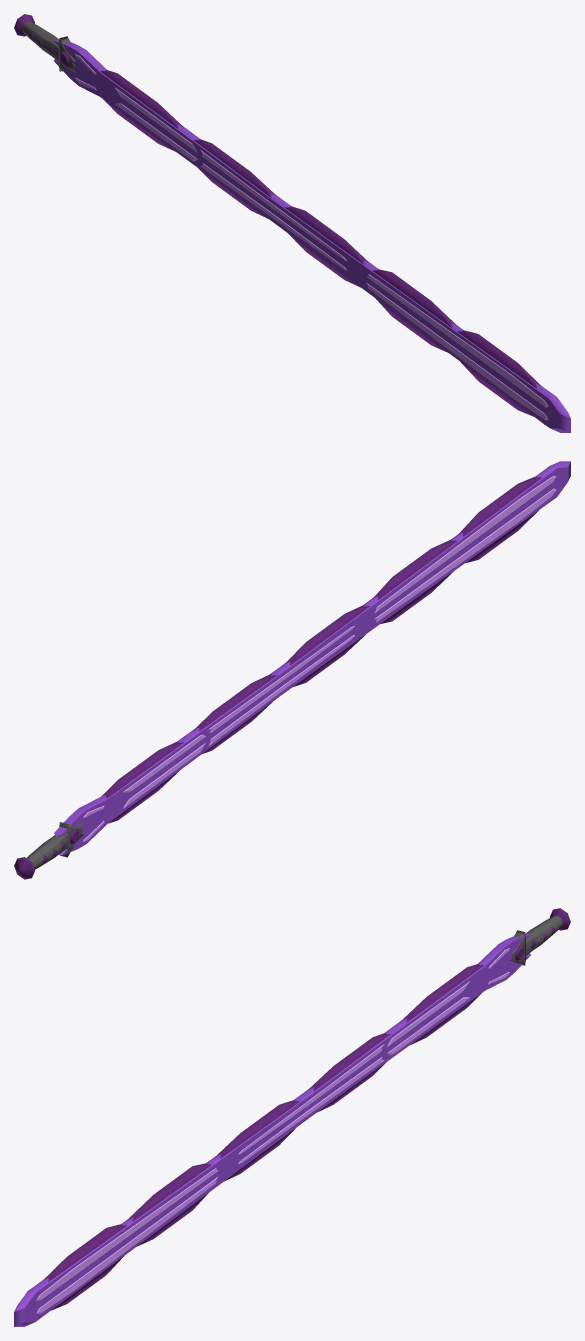
The model's file is Amethyst_Sword_Boss_XtraLong.fbx.
The picture shows the model from 3 angles, top to bottom: view 1: azimuth 30°, elevation 25°; view 2: azimuth 150°, elevation 25°; view 3: azimuth 330°, elevation 25°; orthographic projection.
Visible parts, largest first — view 1: AmethystSword_GEO; view 2: AmethystSword_GEO; view 3: AmethystSword_GEO.
Part boxes in pixels (left/top/right/bottom): AmethystSword_GEO: left=14, top=14, right=570, bottom=432; AmethystSword_GEO: left=14, top=461, right=570, bottom=879; AmethystSword_GEO: left=14, top=908, right=570, bottom=1326.
Bounding box in the file's own units: 5.87 × 12.54 × 264.
